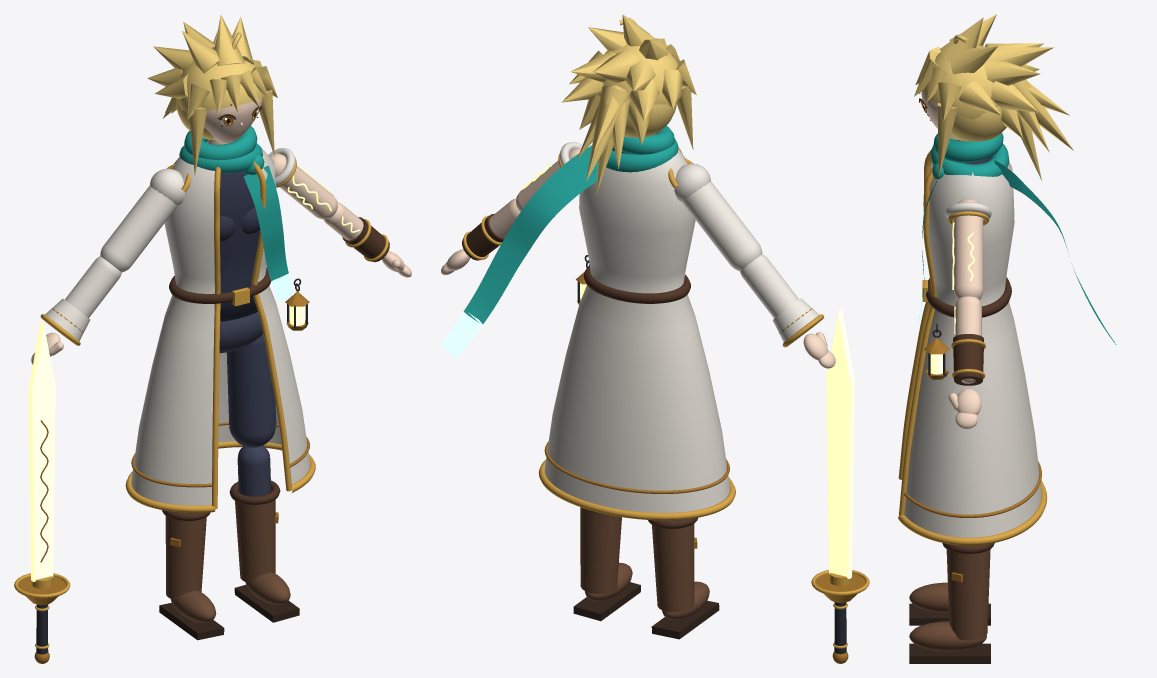
File: vela.glb
The picture shows the model from 3 angles, left to right: view 1: azimuth 30°, elevation 25°; view 2: azimuth 150°, elevation 25°; view 3: azimuth 270°, elevation 25°; orthographic projection. The views are drawn at different scales.
Parts seen in each view (by area): view 1: Coat, Sword_Blade, Thigh_L, Torso, Sleeve_Upper_R, Boot_Shaft_L, Boot_Shaft_R, Scarf_Tail_Front_Mesh, Coat_Trim_R, Coat_Trim_L, Hair_Cap, Sleeve_Lower_R (+21 smaller); view 2: Coat, Sword_Blade, Scarf_Tail_Back_Mesh, Boot_Shaft_R, Sleeve_Upper_R, Boot_Shaft_L, Ponytail, Sleeve_Lower_R, Coat_Hem, Belt, Hair_Cap, Scarf_Wrap2 (+16 smaller); view 3: Coat, Boot_Shaft_L, Arm_Upper_L, Ponytail, Coat_Trim_L, Hair_Cap, Coat_Hem, Boot_Foot_L, Boot_Sole_L, Bracer_L, Hair_Back, Scarf_Wrap1 (+20 smaller).
Boxes of the visible parts, x1,y1,x2,y2 form: Coat: (131, 149, 310, 505); Sword_Blade: (28, 321, 55, 581); Thigh_L: (226, 334, 276, 447); Torso: (220, 171, 260, 321); Sleeve_Upper_R: (100, 186, 177, 272); Boot_Shaft_L: (235, 499, 275, 582); Boot_Shaft_R: (165, 516, 206, 599); Scarf_Tail_Front_Mesh: (243, 165, 288, 281); Coat_Trim_R: (212, 167, 220, 509); Coat_Trim_L: (251, 161, 291, 491); Hair_Cap: (177, 60, 264, 110); Sleeve_Lower_R: (65, 256, 121, 317); Coat: (544, 149, 729, 512); Sword_Blade: (826, 309, 854, 578); Scarf_Tail_Back_Mesh: (463, 145, 598, 323); Boot_Shaft_R: (652, 524, 694, 612); Sleeve_Upper_R: (682, 181, 762, 271); Boot_Shaft_L: (580, 507, 621, 594); Ponytail: (577, 85, 628, 195); Sleeve_Lower_R: (740, 254, 798, 318); Coat_Hem: (538, 460, 735, 520); Belt: (583, 266, 690, 303); Hair_Cap: (599, 44, 682, 105); Scarf_Wrap2: (598, 138, 678, 172); Coat: (904, 161, 1041, 537); Boot_Shaft_L: (946, 549, 990, 640); Arm_Upper_L: (953, 198, 983, 299); Ponytail: (1013, 79, 1073, 180); Coat_Trim_L: (898, 164, 936, 515); Hair_Cap: (923, 45, 998, 119); Coat_Hem: (898, 480, 1047, 545); Boot_Foot_L: (909, 621, 986, 651); Boot_Sole_L: (909, 643, 990, 663); Bracer_L: (953, 334, 983, 385); Hair_Back: (951, 106, 1006, 141); Scarf_Wrap1: (933, 133, 1003, 162).
Bounding box in the file's own units: 1.33 × 1.87 × 0.6601.
